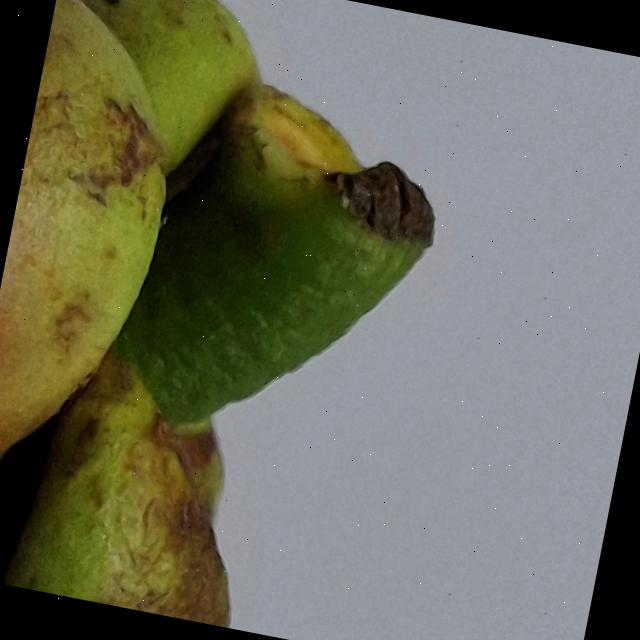mangosteen: (0, 0, 626, 640)
